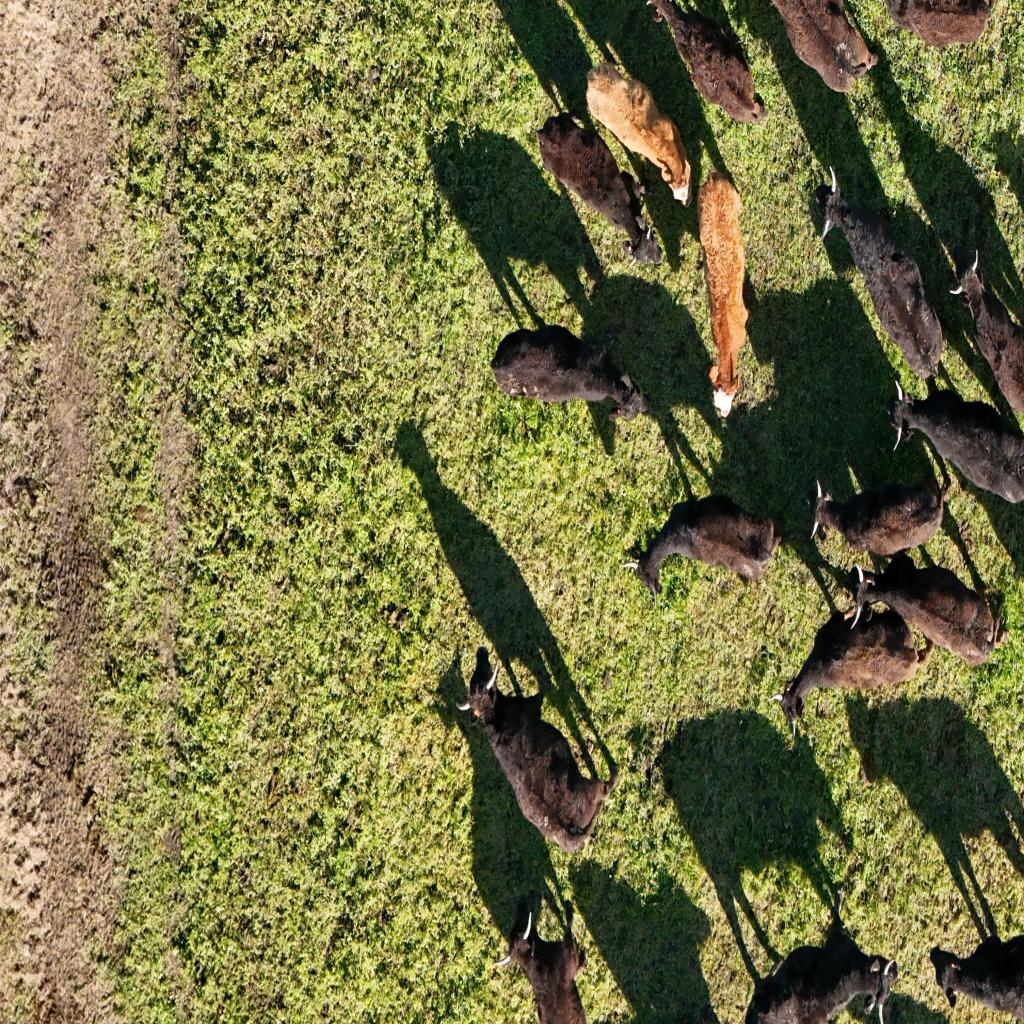cow: (458, 644, 614, 852), (812, 169, 946, 385), (745, 889, 901, 1024), (768, 595, 918, 735), (536, 110, 660, 267), (850, 548, 1007, 672), (888, 385, 1024, 507), (586, 58, 686, 209), (492, 326, 644, 421), (948, 246, 1024, 430), (808, 465, 946, 563), (698, 171, 747, 419), (498, 895, 594, 1021), (668, 0, 759, 130), (761, 2, 878, 98), (656, 495, 770, 588), (932, 928, 1024, 1020), (874, 1, 996, 54)
